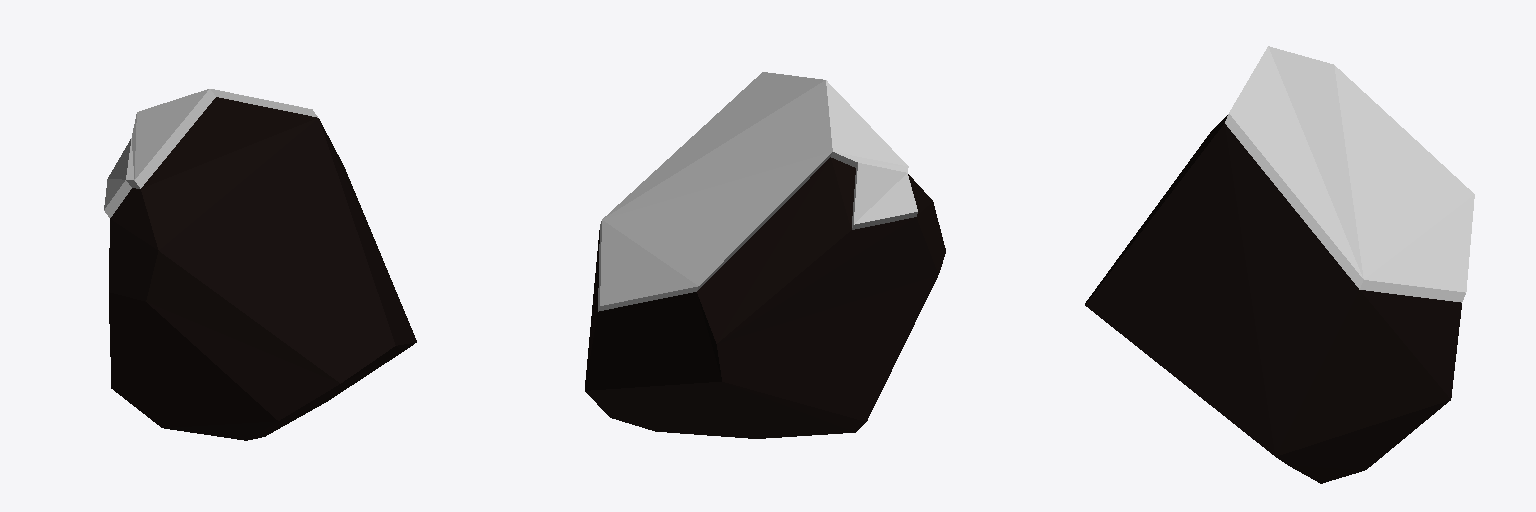
File: Rock_1.obj
3 renders of one model, left to right at view 1: azimuth 30°, elevation 25°; view 2: azimuth 150°, elevation 25°; view 3: azimuth 270°, elevation 25°, orthographic.
Visible parts, largest first — view 1: Cube.003; view 2: Cube.003; view 3: Cube.003.
Boxes of the visible parts, <box> form: Cube.003: <box>104,89,416,440</box>; Cube.003: <box>585,72,945,438</box>; Cube.003: <box>1085,46,1474,483</box>.
Size of the model in its own units: 1.93 by 2.14 by 2.04.